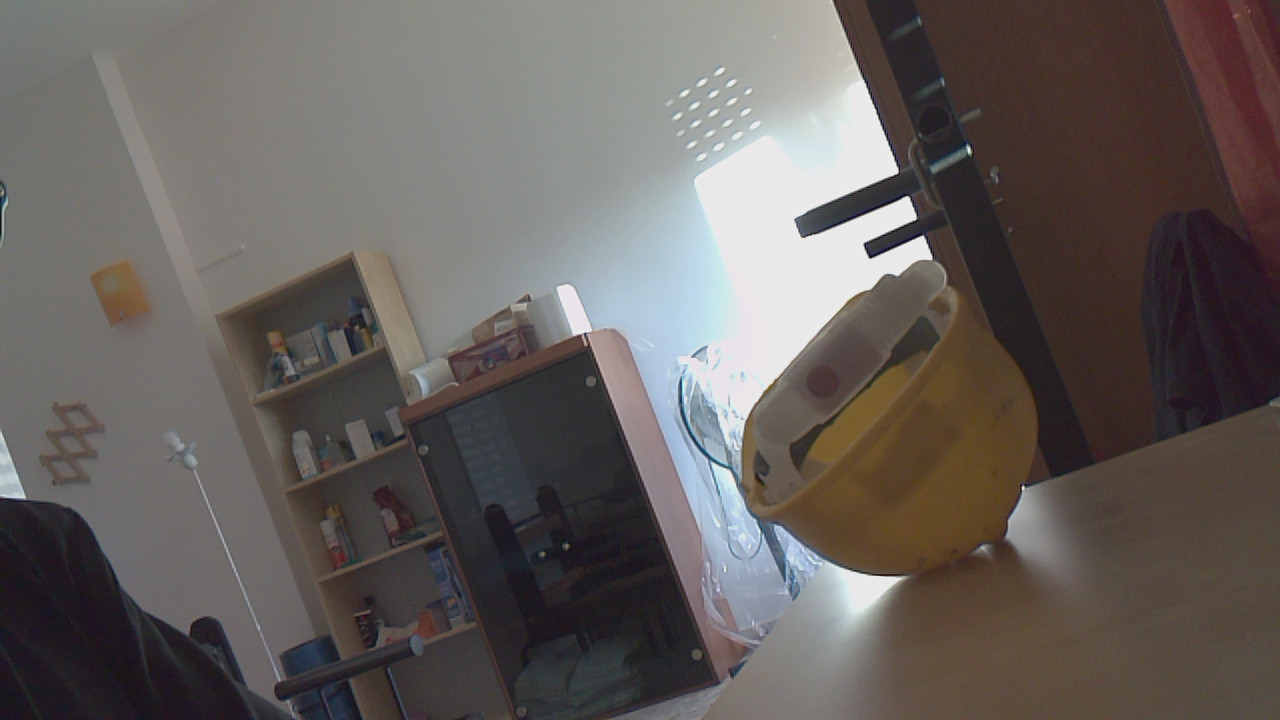Helmet: (742, 266, 1052, 590)
